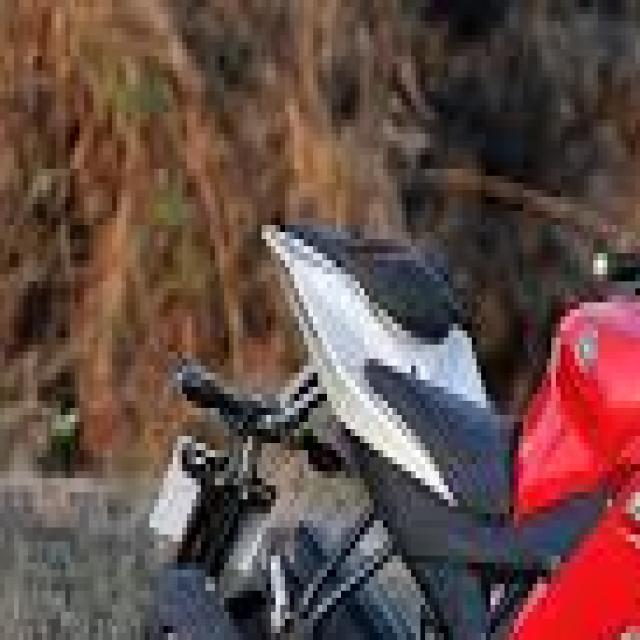bike: (131, 183, 640, 640)
